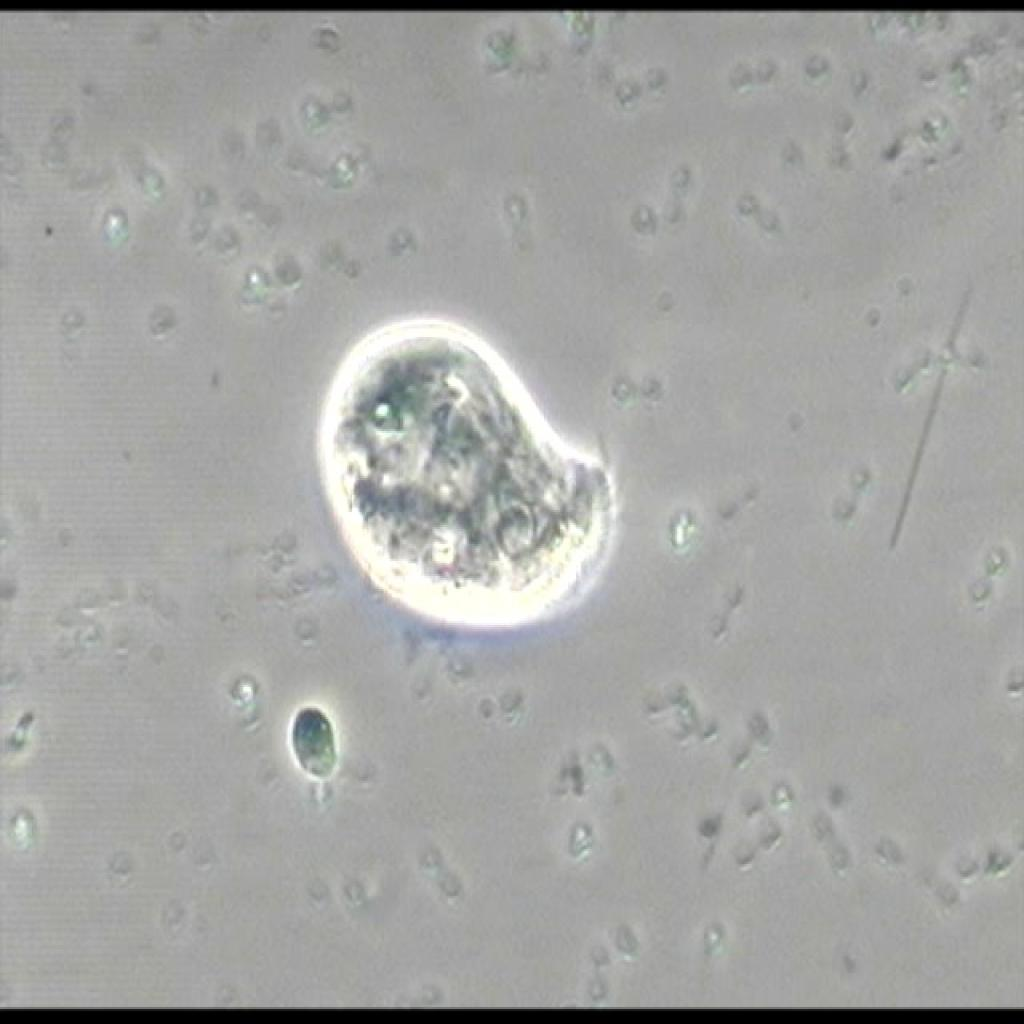Chilodonella: (312, 306, 621, 639)
